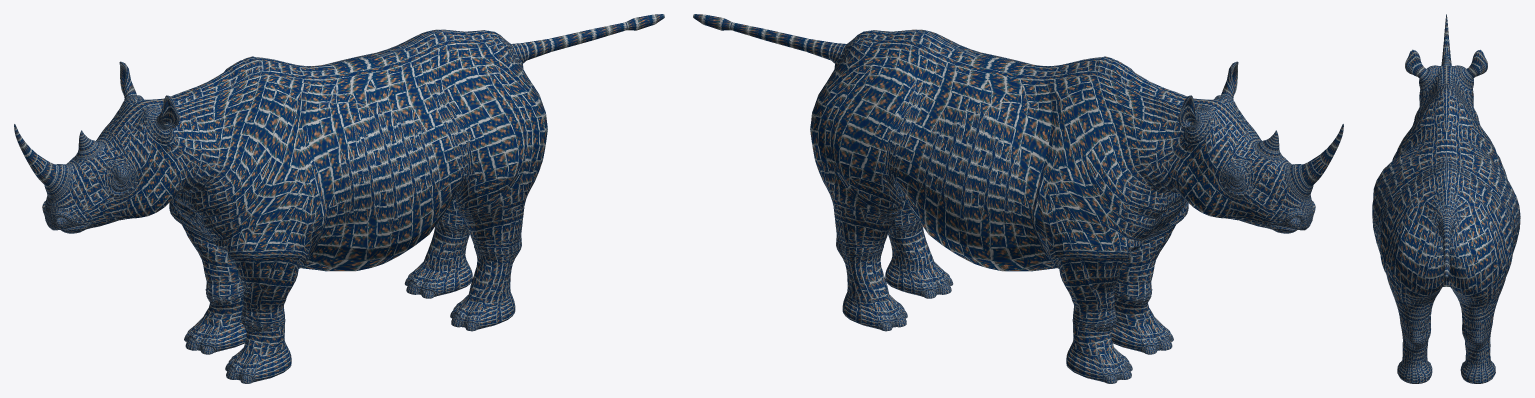
File: Rhino_1.OBJ
3 views of the same model, side by side, from view 1: azimuth 30°, elevation 25°; view 2: azimuth 150°, elevation 25°; view 3: azimuth 270°, elevation 25° (orthographic). The views are drawn at different scales.
Visible parts, largest first — view 1: Group10793, Group58346, Group21040, Group15311, Group17981, Group29118, Group23648, Group32466, Group28176, Group21566; view 2: Group10793, Group58346, Group34293, Group28176, Group29118, Group17981, Group32466, Group23648, Group15311, Group21566; view 3: Group10793, Group34293, Group21040, Group58346, Group17981, Group29118, Group21566.
Part boxes in pixels (<box>): Group10793: <box>171,29,540,271</box>; Group58346: <box>14,60,249,233</box>; Group21040: <box>454,98,547,253</box>; Group15311: <box>213,192,326,325</box>; Group17981: <box>450,248,520,331</box>; Group29118: <box>404,221,472,298</box>; Group23648: <box>225,317,291,383</box>; Group32466: <box>184,292,246,354</box>; Group28176: <box>169,201,243,297</box>; Group21566: <box>511,14,664,63</box>; Group10793: <box>817,29,1186,271</box>; Group58346: <box>1108,60,1343,233</box>; Group34293: <box>810,98,903,253</box>; Group28176: <box>1032,192,1144,325</box>; Group29118: <box>837,248,907,331</box>; Group17981: <box>885,221,953,298</box>; Group32466: <box>1066,317,1132,383</box>; Group23648: <box>1111,292,1173,354</box>; Group15311: <box>1114,201,1188,297</box>; Group21566: <box>693,14,846,63</box>; Group10793: <box>1372,90,1520,294</box>; Group34293: <box>1453,211,1512,342</box>; Group21040: <box>1380,211,1439,342</box>; Group58346: <box>1405,14,1487,125</box>; Group17981: <box>1397,333,1432,383</box>; Group29118: <box>1460,333,1495,383</box>; Group21566: <box>1439,217,1453,278</box>.
Bounding box in the file's own units: 2 × 0.8842 × 0.5515.
Materials: 1 (1 with a texture image).
